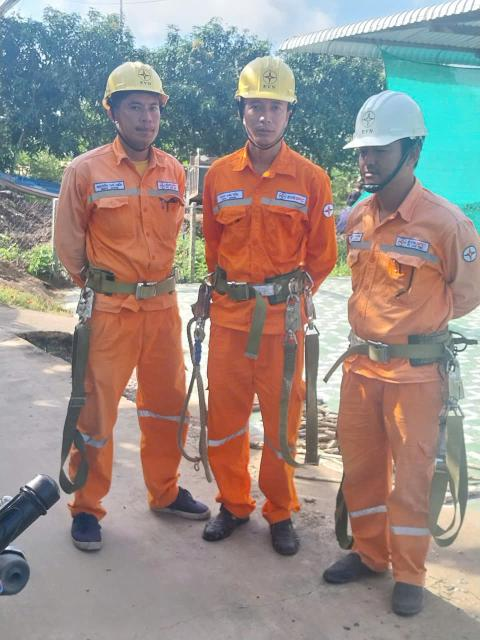harness: (346, 313, 465, 381), (199, 255, 312, 309), (76, 257, 193, 304)
helmet: (221, 44, 321, 117), (339, 88, 429, 148), (90, 59, 188, 108)
shoes: (56, 508, 121, 560), (197, 490, 249, 548), (145, 486, 220, 524), (316, 546, 388, 583), (265, 510, 307, 563), (387, 570, 433, 617)
